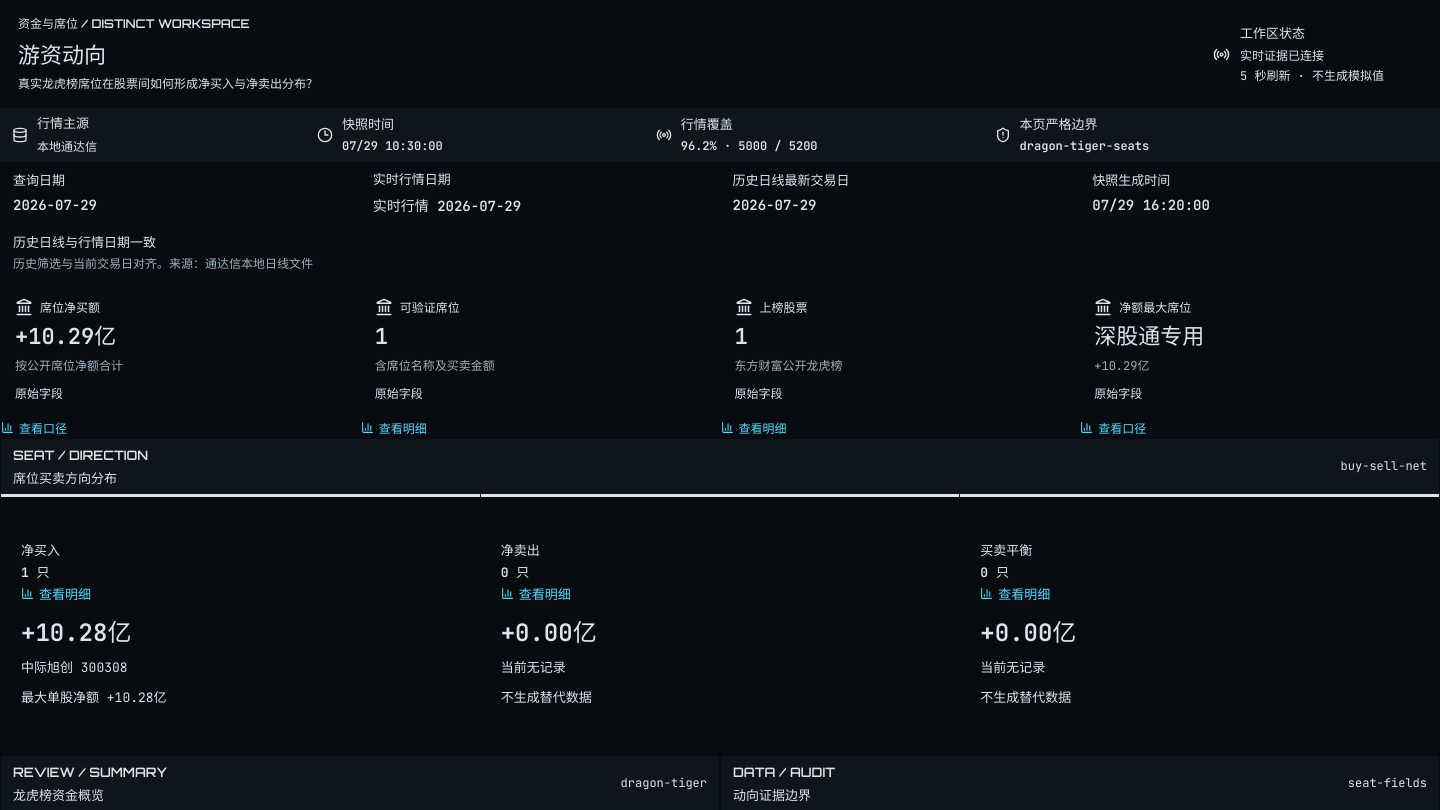
Test: DistinctMarketWorkspace › drills seat-direction counts into exact named stocks
This screenshot has width=1440, height=810.
Click the button with aria-label "筛选：净买入 1" at (41, 550), box left=21, top=540, right=460, bottom=603
(page scrolled)
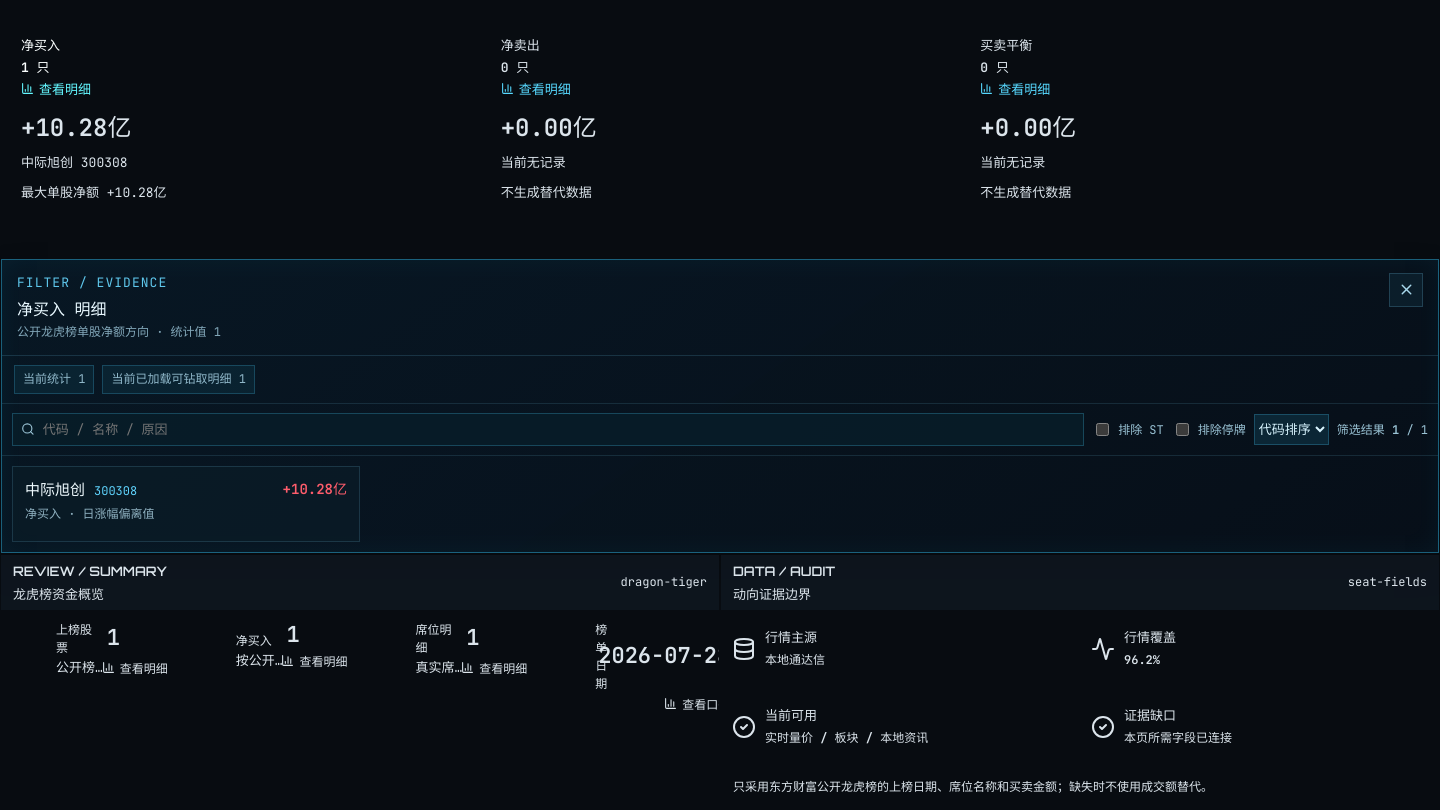
Result: the element "净买入 明细" shows "中际旭创" at left=25, top=480, right=85, bottom=500
Result: the element "净买入 明细" shows "300308" at left=94, top=483, right=137, bottom=499
